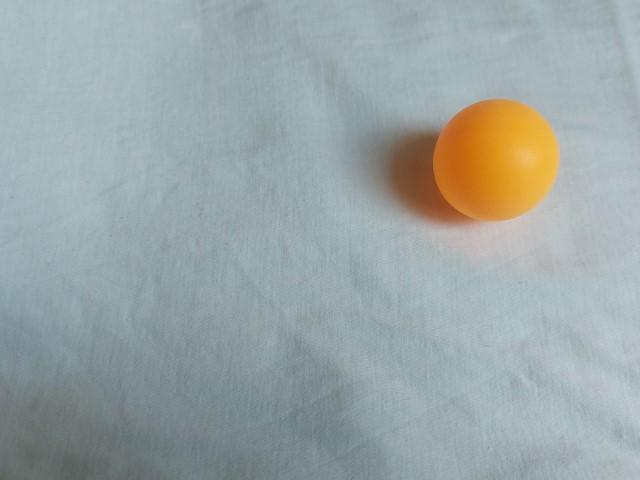oball: (425, 94, 565, 227)
